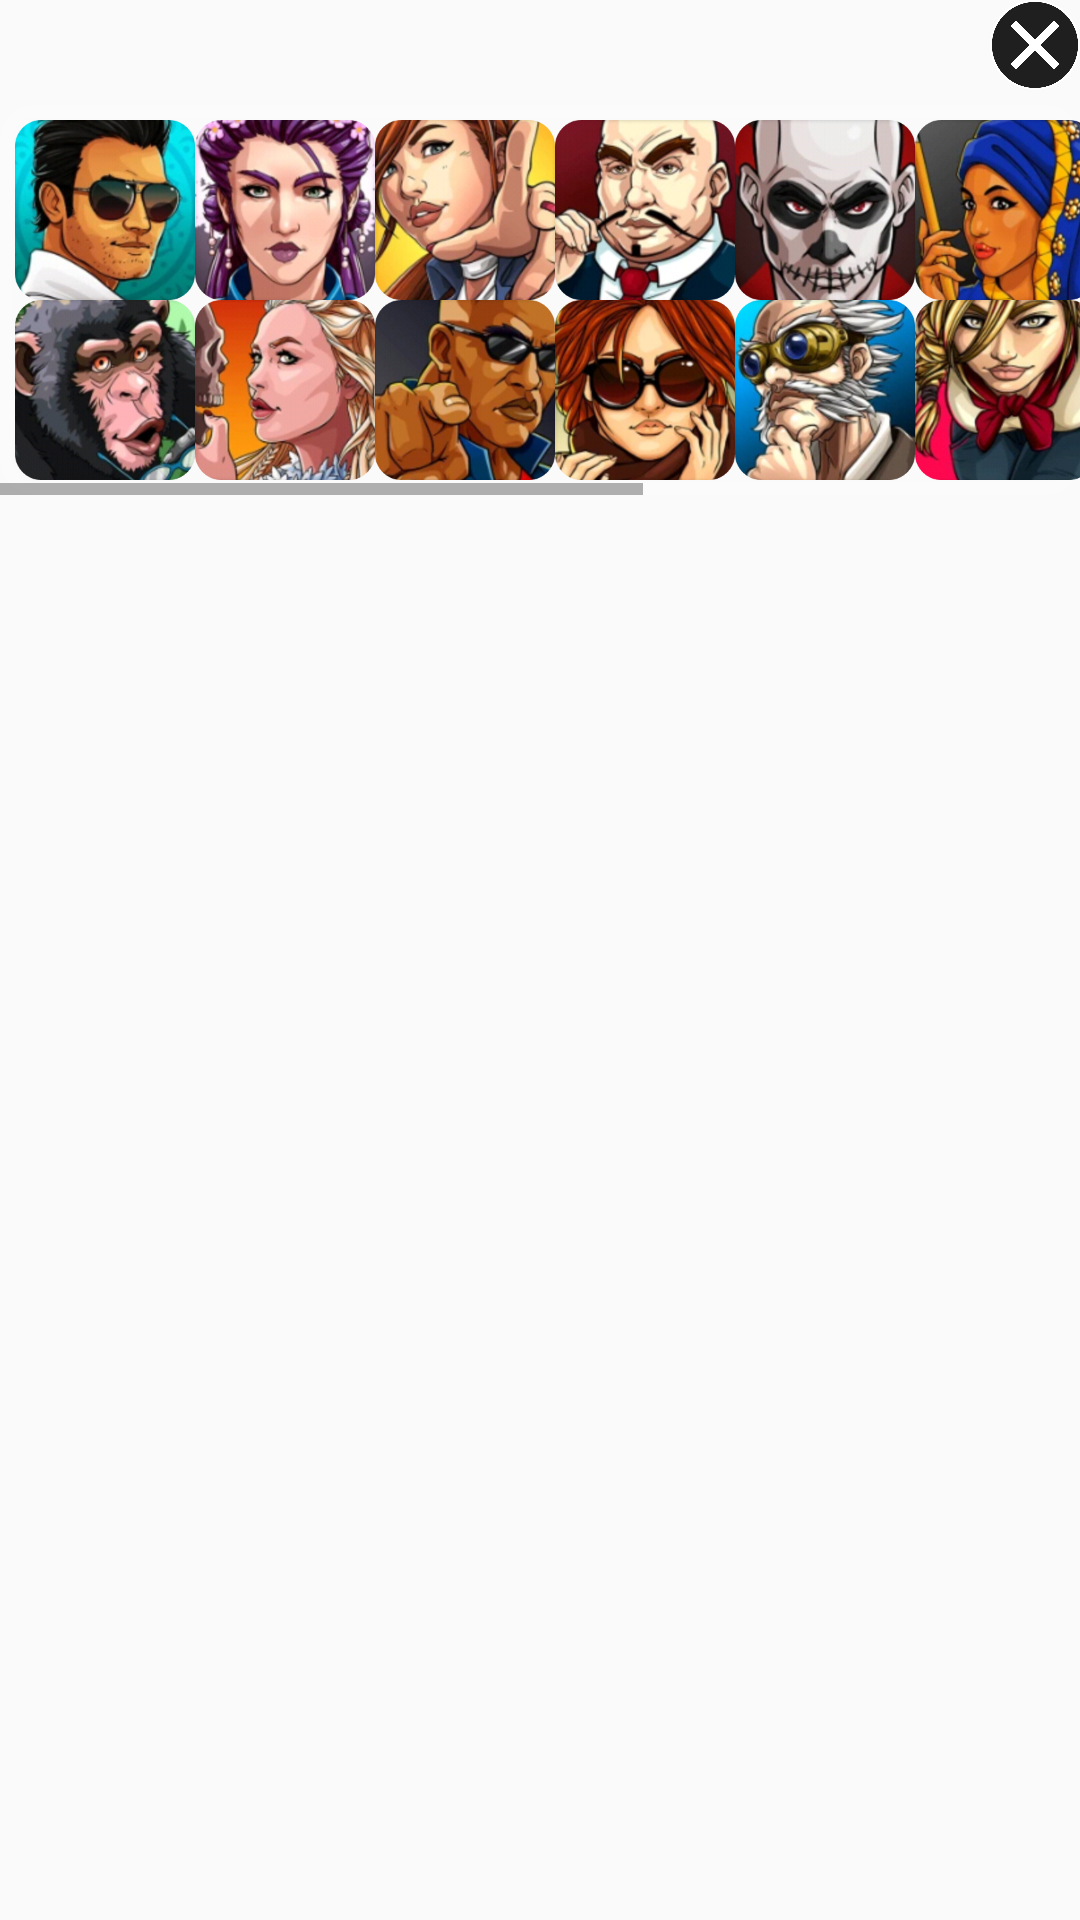

Where icons sit on this 1080 × 1920 app screen, as (x1, y1, x2, y2):
exit: (992, 2, 1078, 88)
